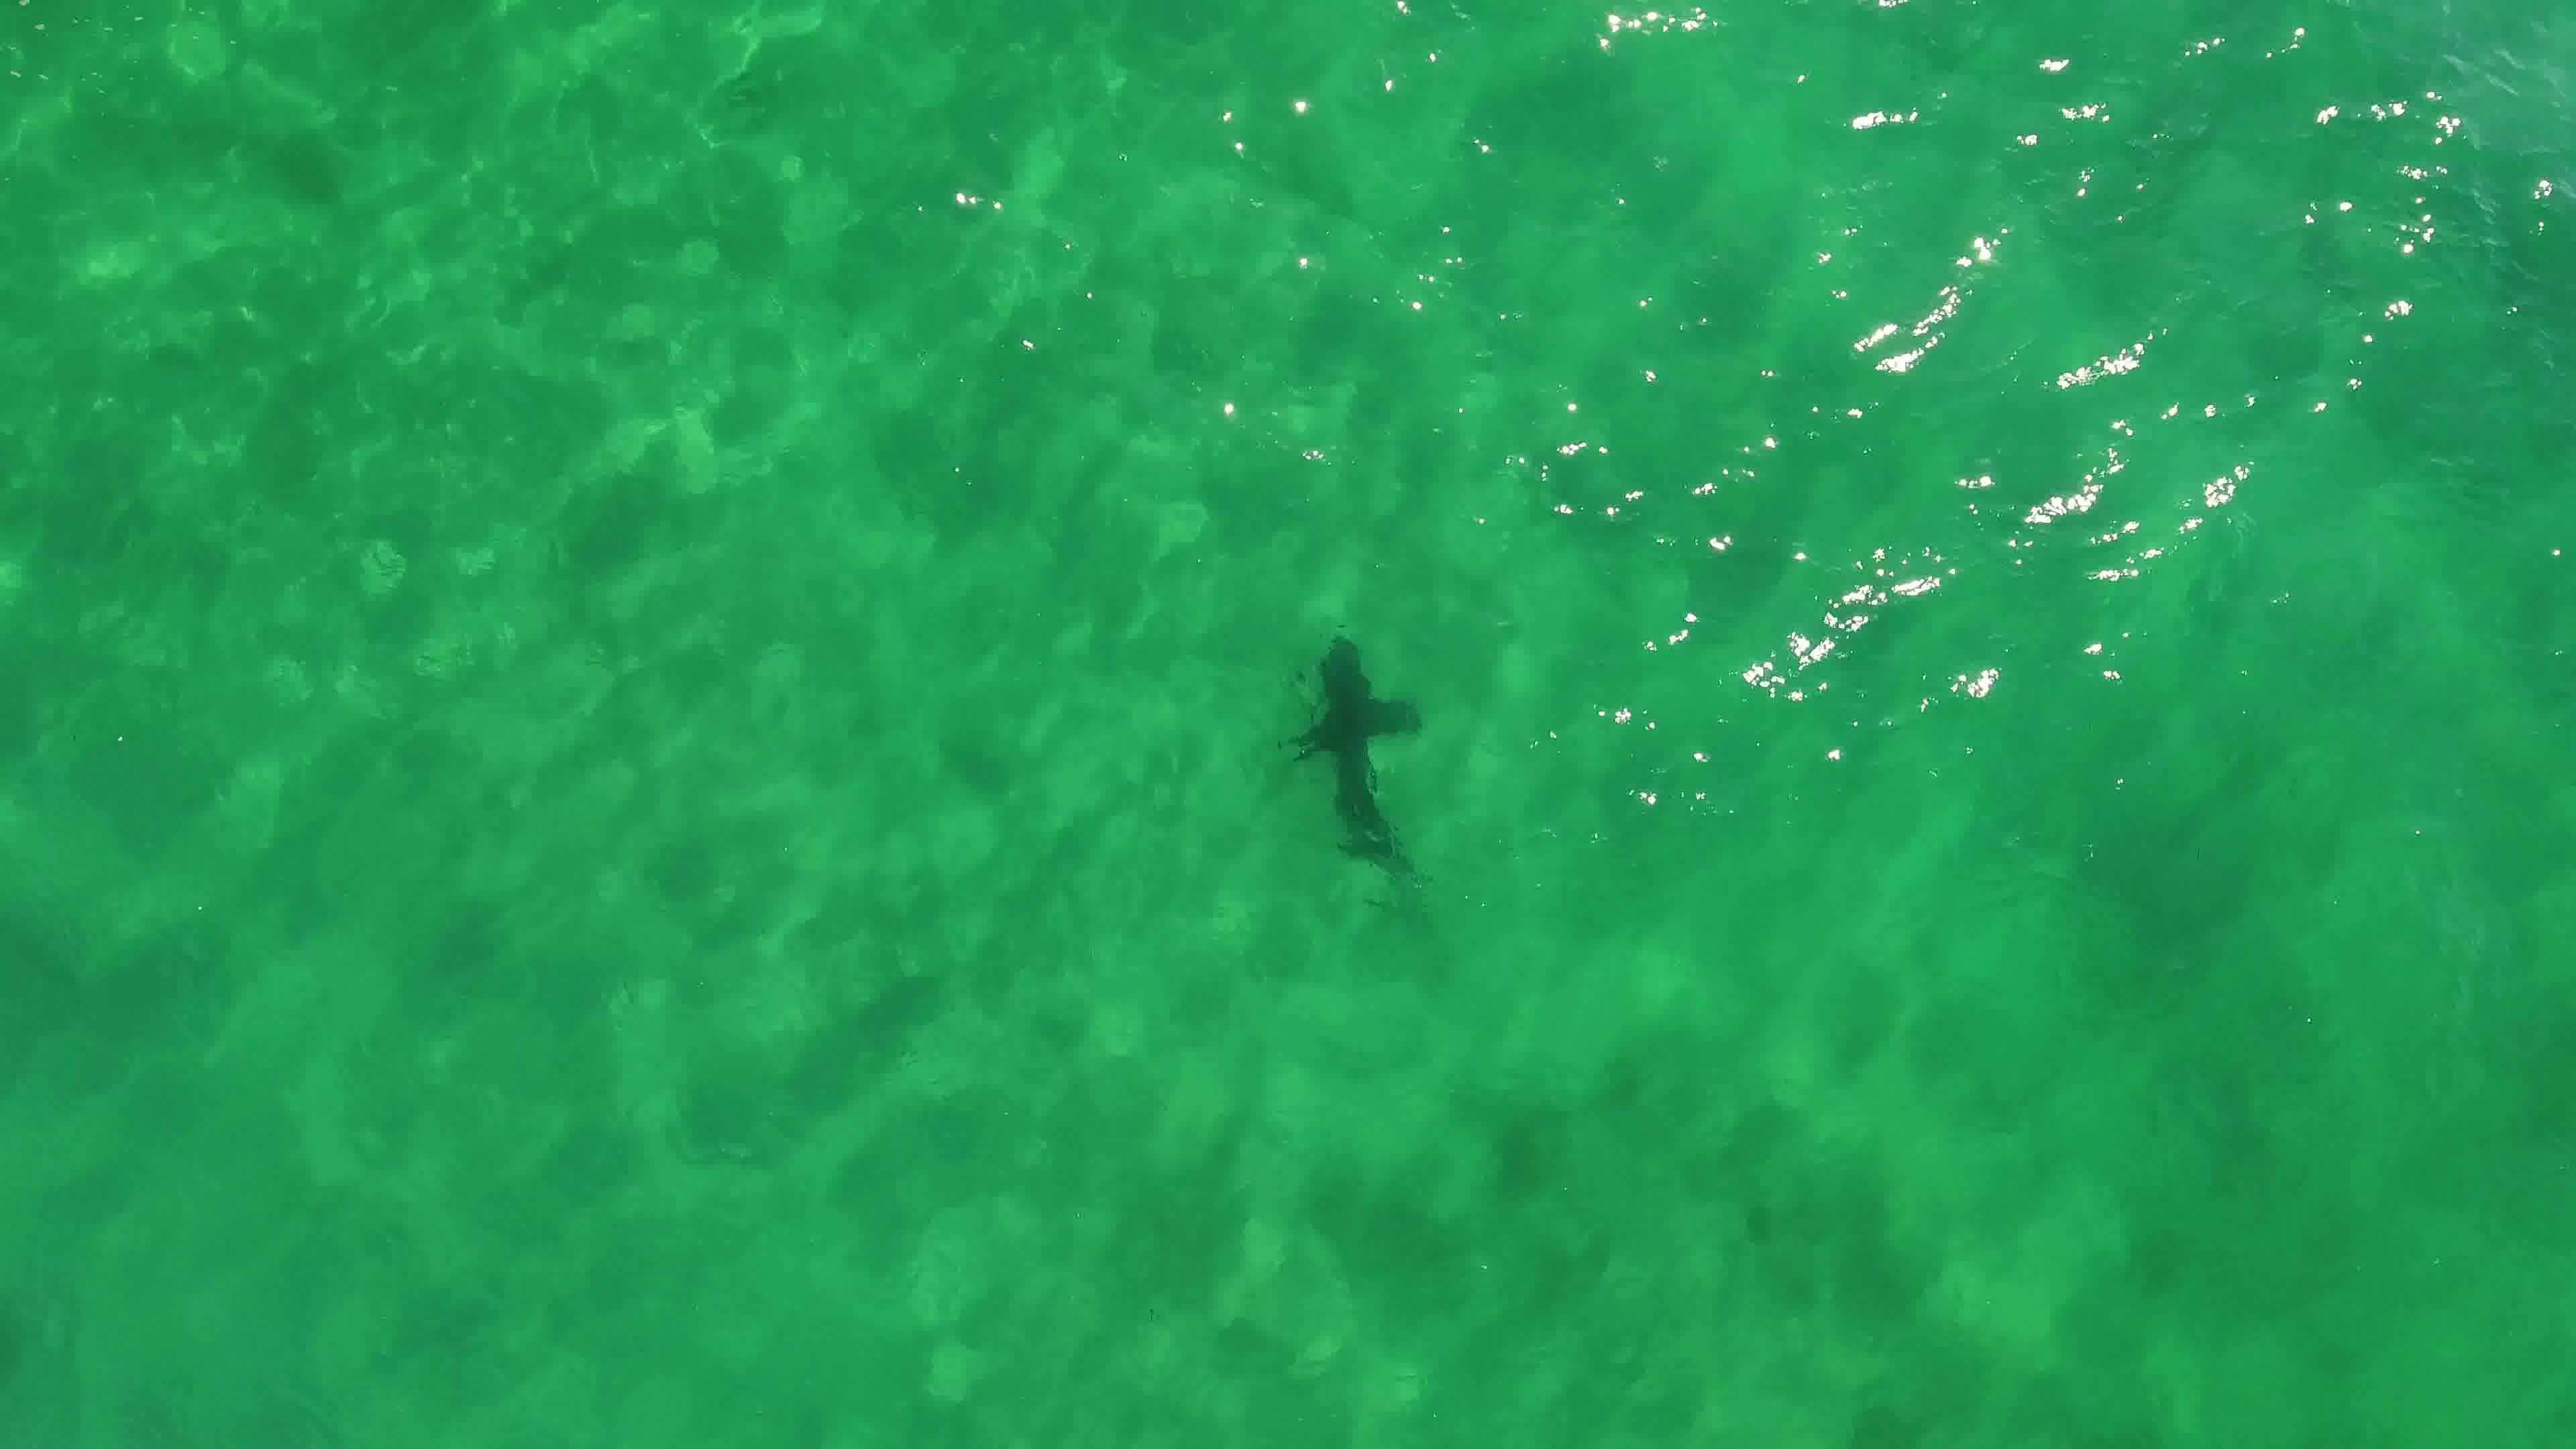shark: (1269, 625, 1437, 883)
